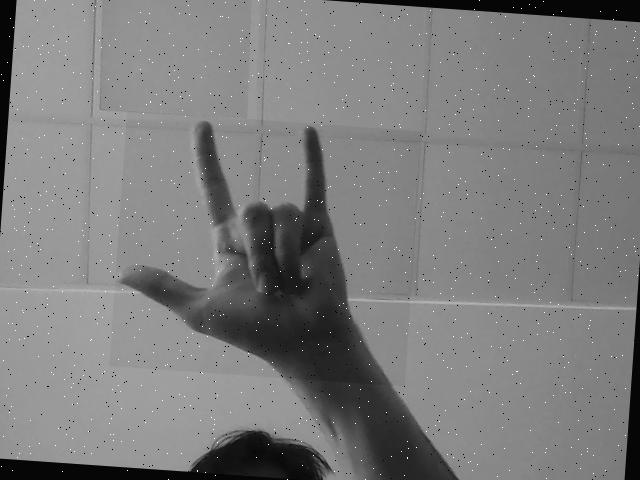I_Love_You: (109, 110, 422, 386)
